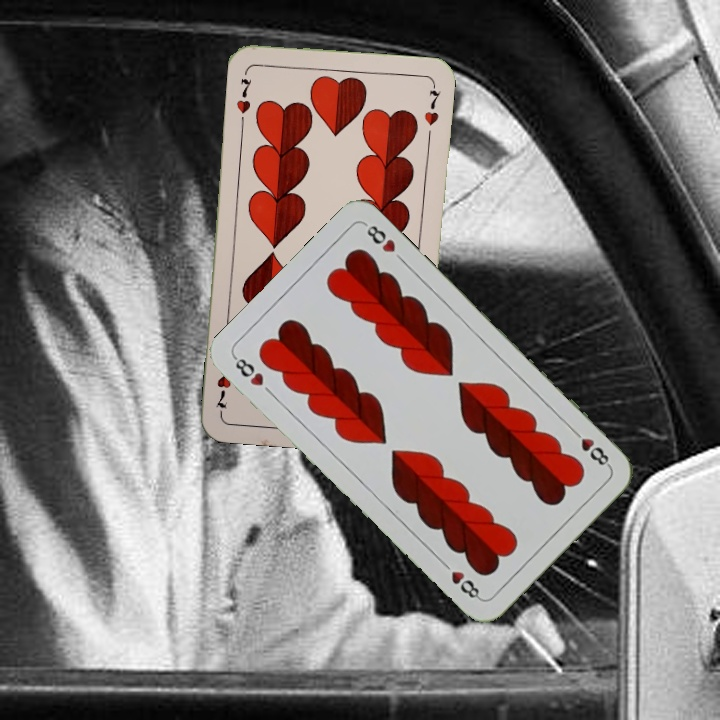H7: (232, 74, 254, 117)
H8: (566, 424, 613, 469), (229, 353, 268, 389)
